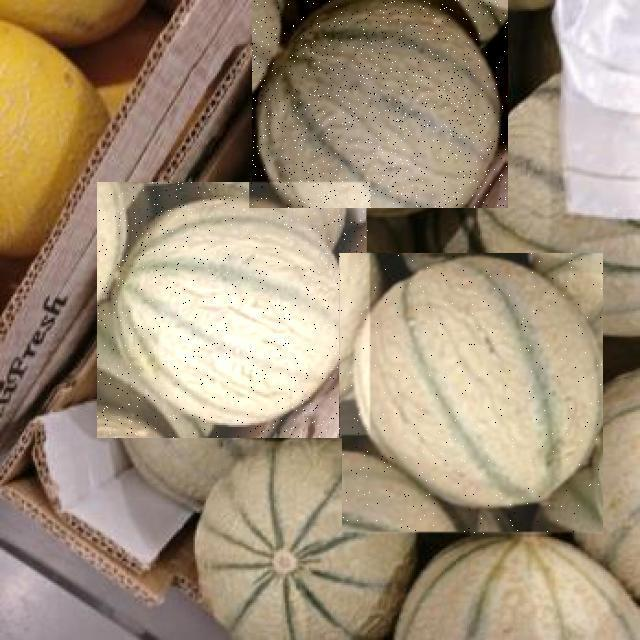Cantaloupe: (342, 254, 603, 536), (98, 182, 370, 438), (252, 0, 508, 208)
